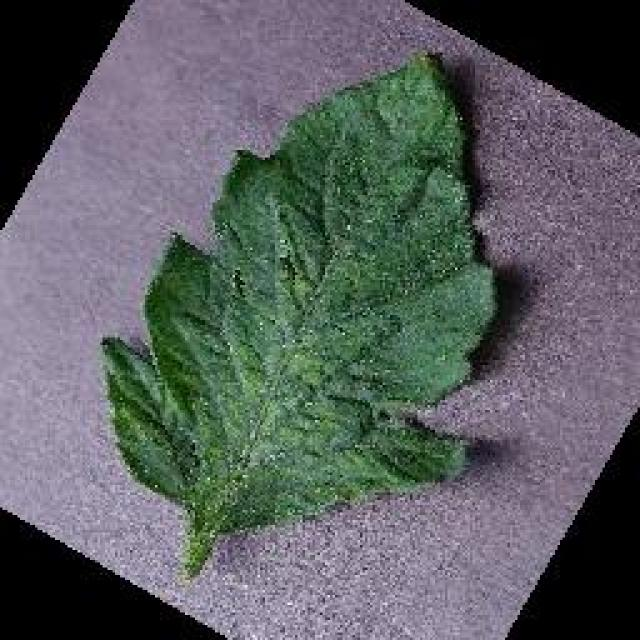Tomato___Tomato_mosaic_virus: (102, 52, 495, 580)
